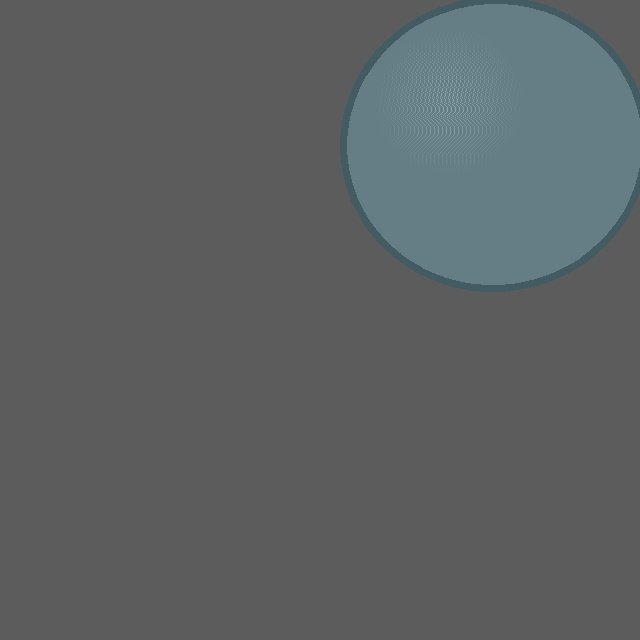lens: (344, 1, 640, 287)
